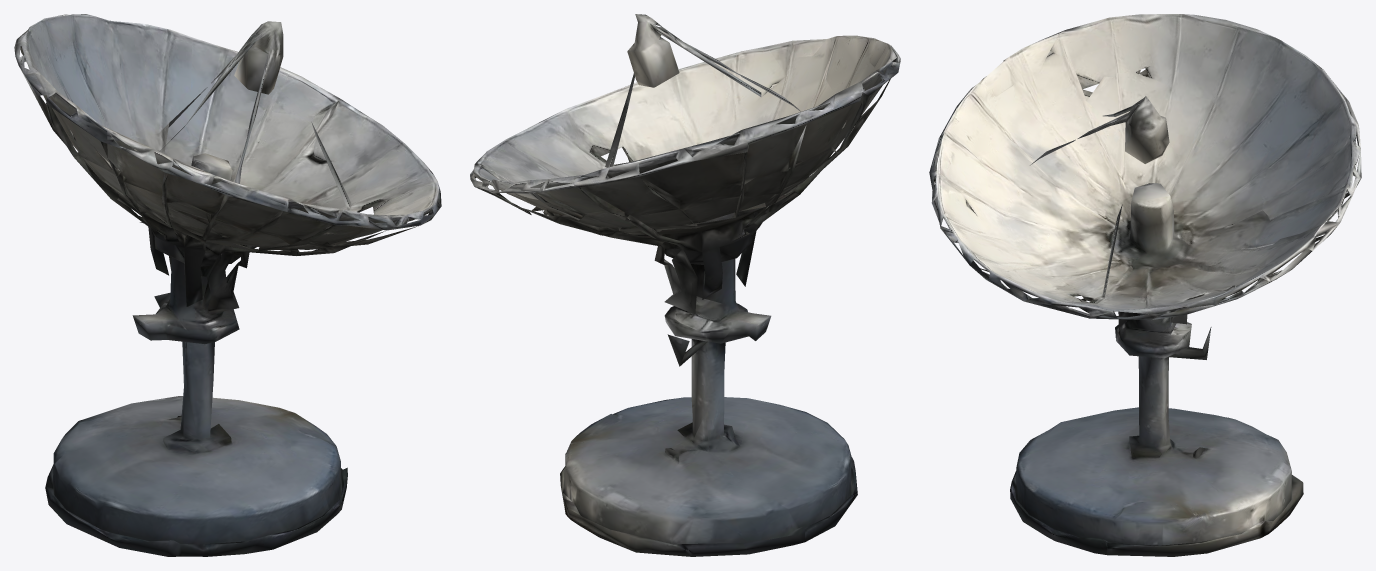
File: qr_satdish.glb
3 renders of one model, left to right at view 1: azimuth 30°, elevation 25°; view 2: azimuth 150°, elevation 25°; view 3: azimuth 270°, elevation 25°, orthographic. The views are drawn at different scales.
Parts seen in each view (by area): view 1: tripo_node_5792605b-bb8b-4278-b7c4-ea1840df3130; view 2: tripo_node_5792605b-bb8b-4278-b7c4-ea1840df3130; view 3: tripo_node_5792605b-bb8b-4278-b7c4-ea1840df3130.
Boxes of the visible parts, x1=… form: tripo_node_5792605b-bb8b-4278-b7c4-ea1840df3130: x1=14, y1=14, x2=441, y2=556; tripo_node_5792605b-bb8b-4278-b7c4-ea1840df3130: x1=470, y1=14, x2=900, y2=556; tripo_node_5792605b-bb8b-4278-b7c4-ea1840df3130: x1=929, y1=14, x2=1361, y2=556.
Size of the model in its own units: 0.8248 by 1 by 0.9042.
Materials: 1 (1 with a texture image).
